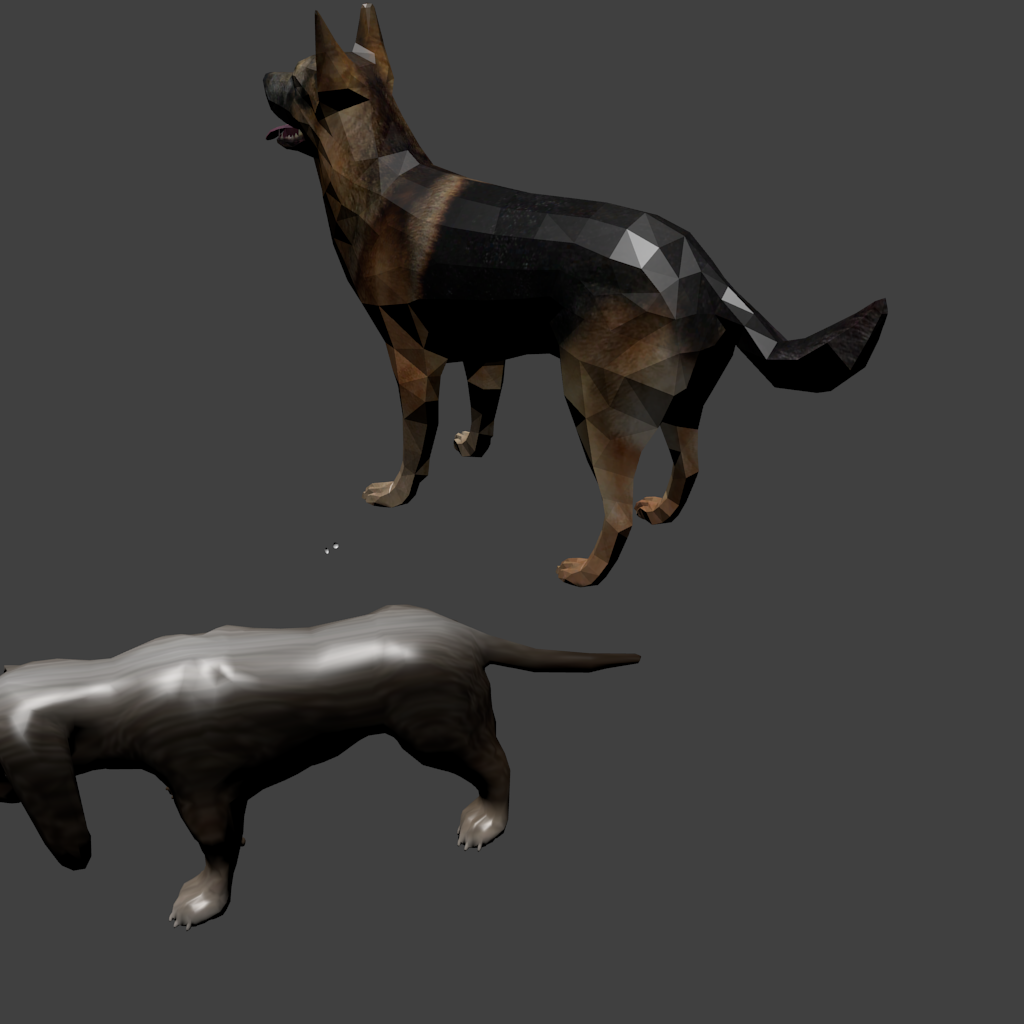Dog: (263, 3, 625, 585)
